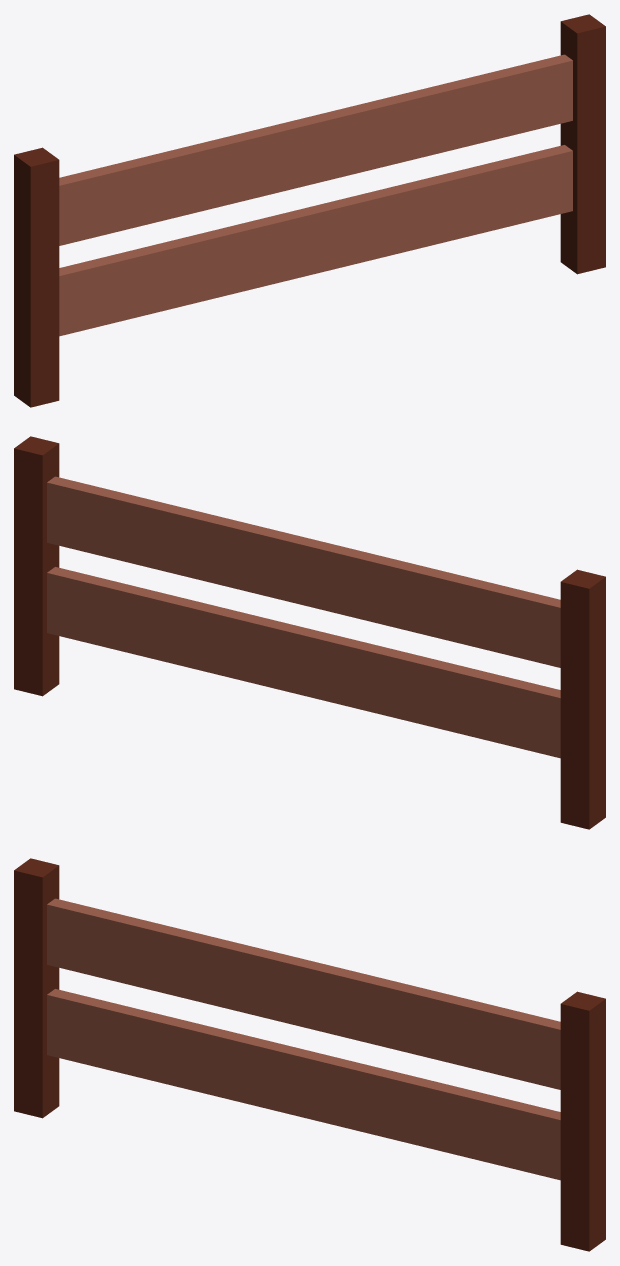
The model's file is fence-straight.glb.
3 renders of one model, top to bottom at view 1: azimuth 30°, elevation 25°; view 2: azimuth 150°, elevation 25°; view 3: azimuth 330°, elevation 25°, orthographic.
Visible parts, largest first — view 1: fence_classic; view 2: fence_classic; view 3: fence_classic.
Boxes of the visible parts, x1,y1,x2,y2 form: fence_classic: (14,14,605,407); fence_classic: (14,436,605,829); fence_classic: (14,858,605,1251).
Bounding box in the file's own units: 1 × 0.4 × 0.05.
